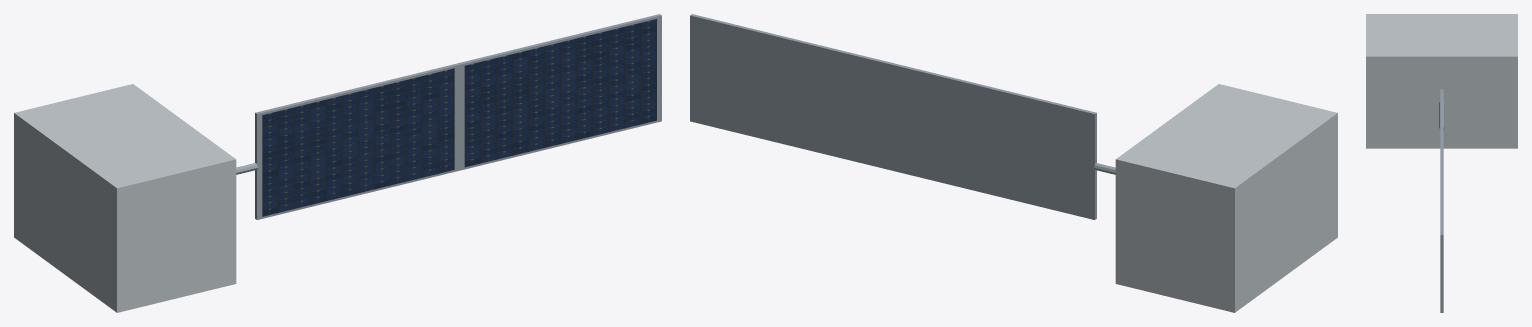
File: ref-calistus-65297.glb
The picture shows the model from 3 angles, left to right: view 1: azimuth 30°, elevation 25°; view 2: azimuth 150°, elevation 25°; view 3: azimuth 270°, elevation 25°; orthographic projection. The views are drawn at different scales.
Visible parts, largest first — view 1: Spacecraft body, Photovoltaic laminates (×2), Array frame (×2); view 2: Array frame (×2), Spacecraft body; view 3: Spacecraft body, Array frame (×2).
Part boxes in pixels (<box>): Spacecraft body: <box>14,84,236,312</box>; Photovoltaic laminates (×2): <box>262,19,656,216</box>; Array frame (×2): <box>255,14,661,219</box>; Array frame (×2): <box>690,14,1096,219</box>; Spacecraft body: <box>1115,84,1337,312</box>; Spacecraft body: <box>1366,14,1517,148</box>; Array frame (×2): <box>1440,89,1443,312</box>.
Size of the model in its own units: 2 by 0.4 by 0.6.
Materials: 3 (1 with a texture image).
